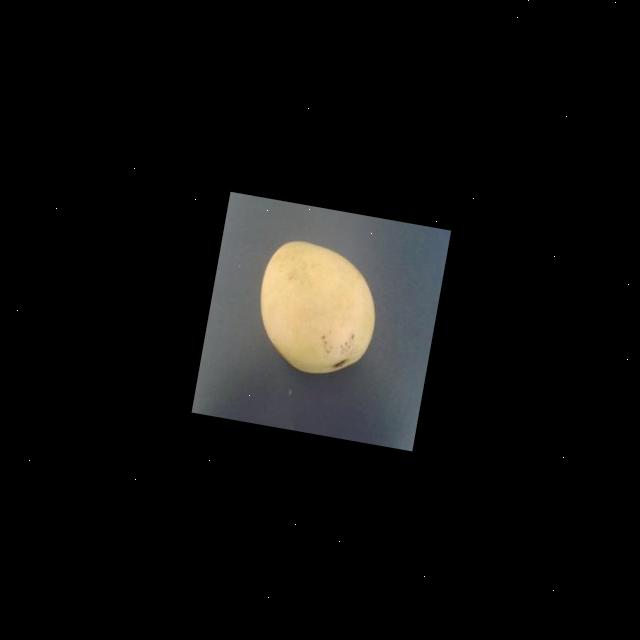Mango: (246, 232, 386, 382)
